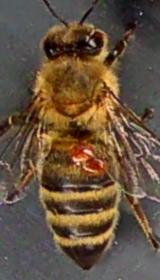varroa_mite: (68, 136, 101, 165), (84, 152, 106, 182)
